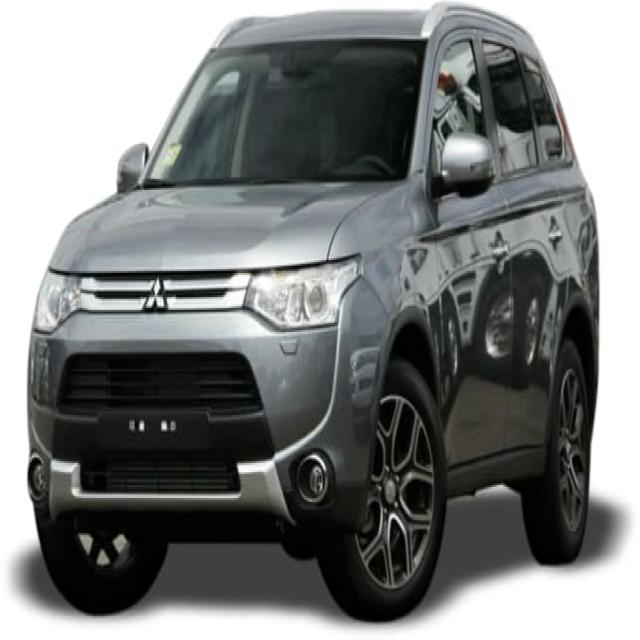light_vehicle: (26, 4, 601, 623)
